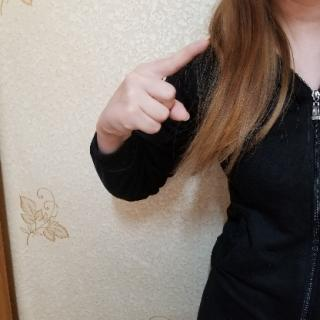RAA: (95, 32, 221, 148)
